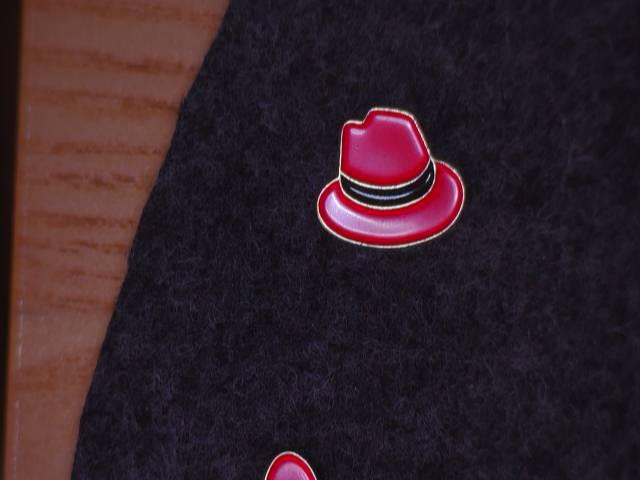Red-Hat: (303, 88, 499, 271)
